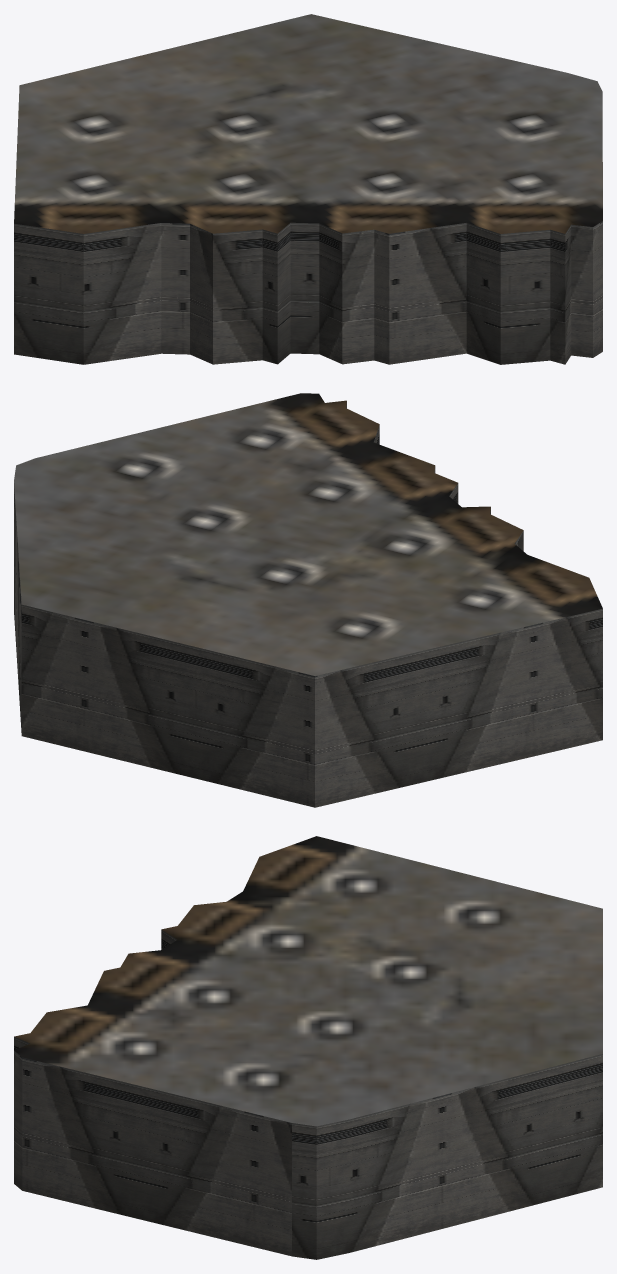
The model's file is fortress_medium_a_39.glb.
3 views of the same model, one above another, from view 1: azimuth 30°, elevation 25°; view 2: azimuth 150°, elevation 25°; view 3: azimuth 270°, elevation 25° (orthographic).
Parts seen in each view (by area): view 1: buildings/saxarba/fortress_medium/fortress_medium_a_39; view 2: buildings/saxarba/fortress_medium/fortress_medium_a_39; view 3: buildings/saxarba/fortress_medium/fortress_medium_a_39.
Boxes of the visible parts, x1=… form: buildings/saxarba/fortress_medium/fortress_medium_a_39: x1=14, y1=14, x2=602, y2=364; buildings/saxarba/fortress_medium/fortress_medium_a_39: x1=14, y1=393, x2=602, y2=807; buildings/saxarba/fortress_medium/fortress_medium_a_39: x1=14, y1=836, x2=602, y2=1259.
Bounding box in the file's own units: 84 × 18 × 72.
